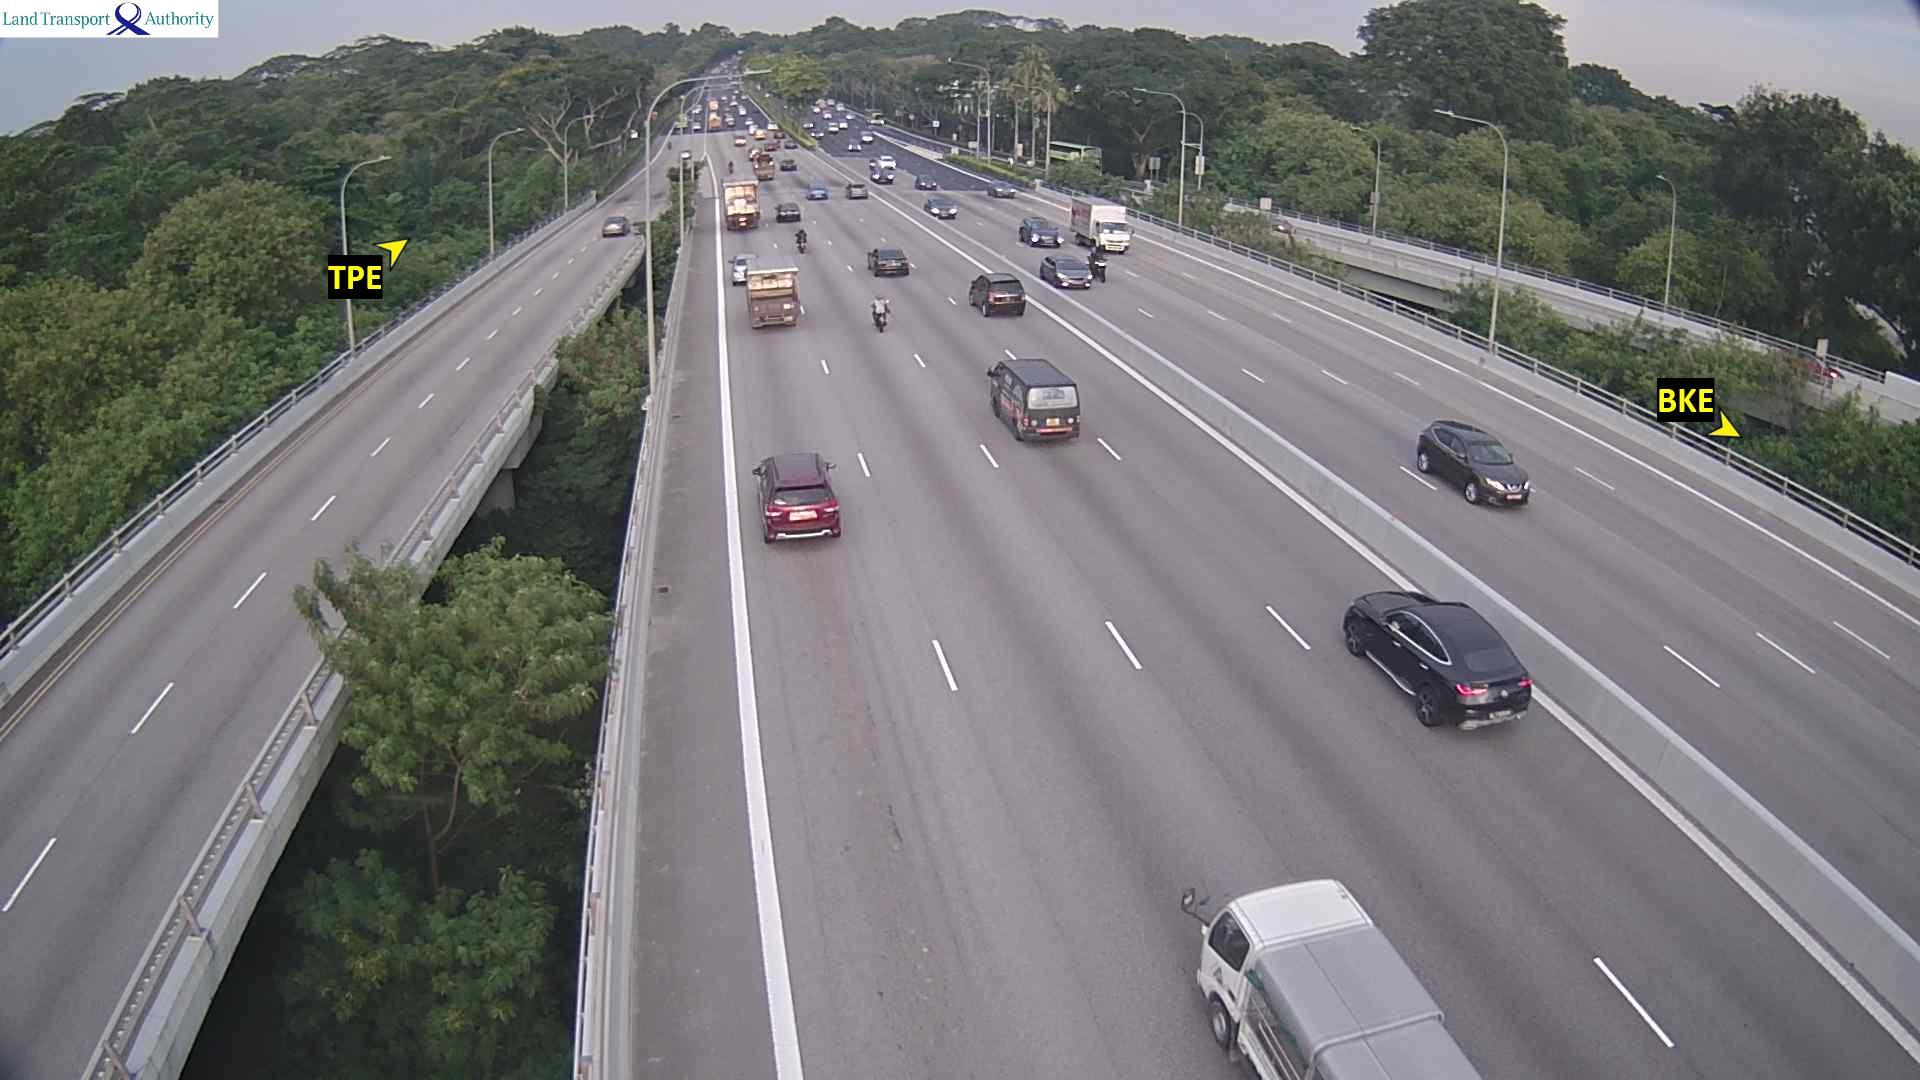incoming: (1466, 440, 1532, 506), (1091, 206, 1131, 252), (1051, 258, 1096, 290), (1031, 222, 1064, 248), (930, 198, 959, 219), (994, 182, 1017, 195), (916, 177, 938, 190), (1097, 260, 1109, 282)
